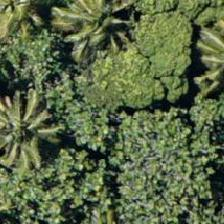coconut_tree: (0, 82, 57, 172), (0, 0, 50, 86)
